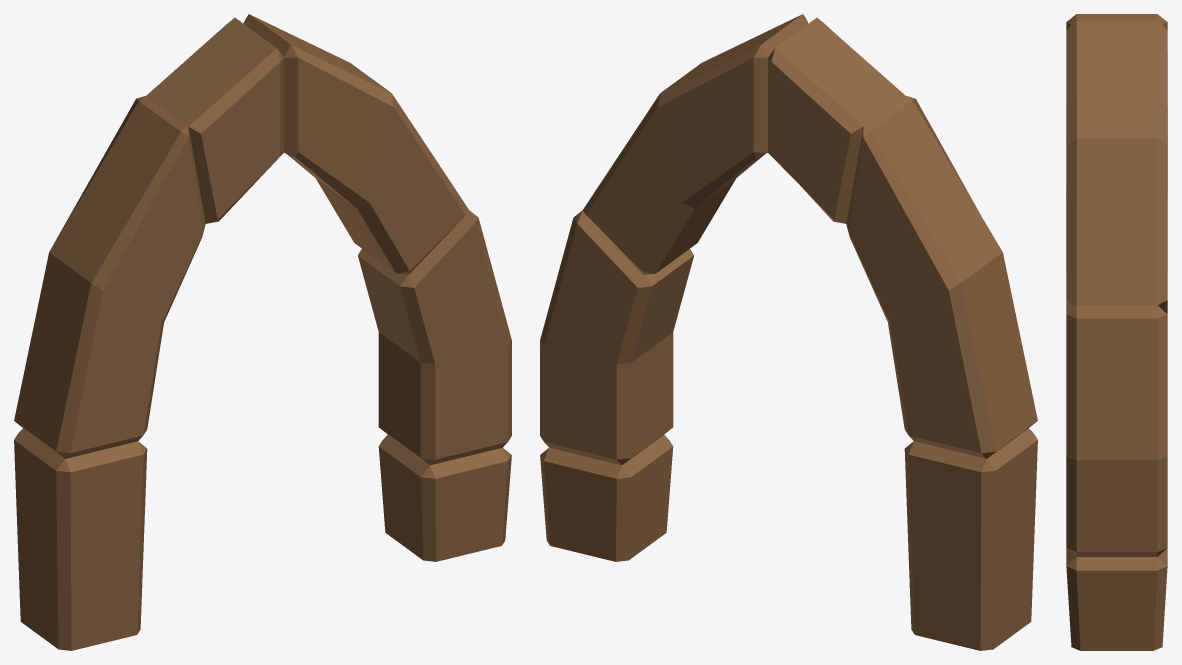
The model's file is Ruin_2_Light_Brown.fbx.
3 renders of one model, left to right at view 1: azimuth 30°, elevation 25°; view 2: azimuth 150°, elevation 25°; view 3: azimuth 270°, elevation 25°, orthographic. The views are drawn at different scales.
Parts seen in each view (by area): view 1: Ruin_2_Light_Brown; view 2: Ruin_2_Light_Brown; view 3: Ruin_2_Light_Brown.
Boxes of the visible parts, x1,y1,x2,y2 form: Ruin_2_Light_Brown: [14, 14, 511, 650]; Ruin_2_Light_Brown: [540, 14, 1037, 650]; Ruin_2_Light_Brown: [1066, 14, 1167, 650].
Size of the model in its own units: 500 by 577 by 100.
